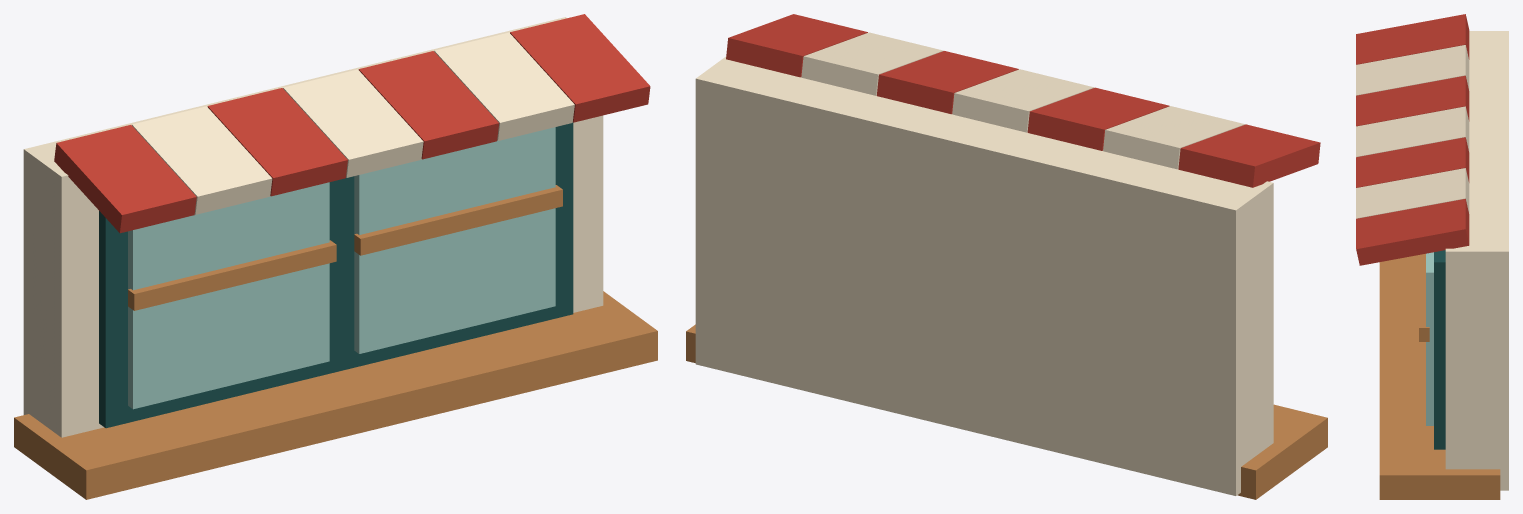
The model's file is DinerWindow.glb.
The picture shows the model from 3 angles, left to right: view 1: azimuth 30°, elevation 25°; view 2: azimuth 150°, elevation 25°; view 3: azimuth 270°, elevation 25°; orthographic projection. The views are drawn at different scales.
Visible parts, largest first — view 1: Maple ledge, Frosted window pane, Frosted window pane.001, Cream outer frame, Burnished dark inset, Striped canvas valance, Striped canvas valance.001, Striped canvas valance.003, Striped canvas valance.006, Striped canvas valance.002, Striped canvas valance.004, Striped canvas valance.005 (+2 smaller); view 2: Cream outer frame, Striped canvas valance, Maple ledge, Striped canvas valance.002, Striped canvas valance.003, Striped canvas valance.004, Striped canvas valance.001, Striped canvas valance.005, Striped canvas valance.006; view 3: Cream outer frame, Maple ledge, Striped canvas valance.006, Striped canvas valance.002, Striped canvas valance.005, Striped canvas valance, Striped canvas valance.004, Striped canvas valance.001, Striped canvas valance.003, Burnished dark inset, Frosted window pane.001, Window crossbar.001.
Boxes of the visible parts, bbox=[...] form: Maple ledge: bbox=[14, 291, 657, 499]; Frosted window pane: bbox=[128, 182, 329, 409]; Frosted window pane.001: bbox=[354, 127, 555, 353]; Cream outer frame: bbox=[23, 17, 603, 437]; Burnished dark inset: bbox=[99, 122, 573, 428]; Striped canvas valance: bbox=[54, 125, 196, 233]; Striped canvas valance.001: bbox=[132, 106, 272, 214]; Striped canvas valance.003: bbox=[283, 69, 423, 177]; Striped canvas valance.006: bbox=[510, 14, 650, 122]; Striped canvas valance.002: bbox=[207, 88, 347, 196]; Striped canvas valance.004: bbox=[358, 51, 499, 159]; Striped canvas valance.005: bbox=[434, 32, 574, 140]; Cream outer frame: bbox=[695, 56, 1273, 495]; Striped canvas valance: bbox=[1178, 124, 1320, 187]; Maple ledge: bbox=[686, 324, 1327, 499]; Striped canvas valance.002: bbox=[1027, 87, 1169, 150]; Striped canvas valance.003: bbox=[952, 69, 1094, 132]; Striped canvas valance.004: bbox=[876, 51, 1018, 114]; Striped canvas valance.001: bbox=[1103, 106, 1245, 169]; Striped canvas valance.005: bbox=[801, 32, 943, 95]; Striped canvas valance.006: bbox=[726, 14, 867, 77]; Cream outer frame: bbox=[1445, 31, 1508, 490]; Maple ledge: bbox=[1379, 255, 1500, 499]; Striped canvas valance.006: bbox=[1356, 199, 1469, 265]; Striped canvas valance.002: bbox=[1356, 75, 1469, 126]; Striped canvas valance.005: bbox=[1356, 168, 1469, 218]; Striped canvas valance: bbox=[1356, 14, 1469, 64]; Striped canvas valance.004: bbox=[1356, 137, 1469, 187]; Striped canvas valance.001: bbox=[1356, 45, 1469, 95]; Striped canvas valance.003: bbox=[1356, 106, 1469, 156]; Burnished dark inset: bbox=[1434, 250, 1445, 449]; Frosted window pane.001: bbox=[1426, 252, 1433, 425]; Window crossbar.001: bbox=[1419, 253, 1429, 341].
Bounding box in the file's own units: 1.92 × 1.01 × 0.5326.
